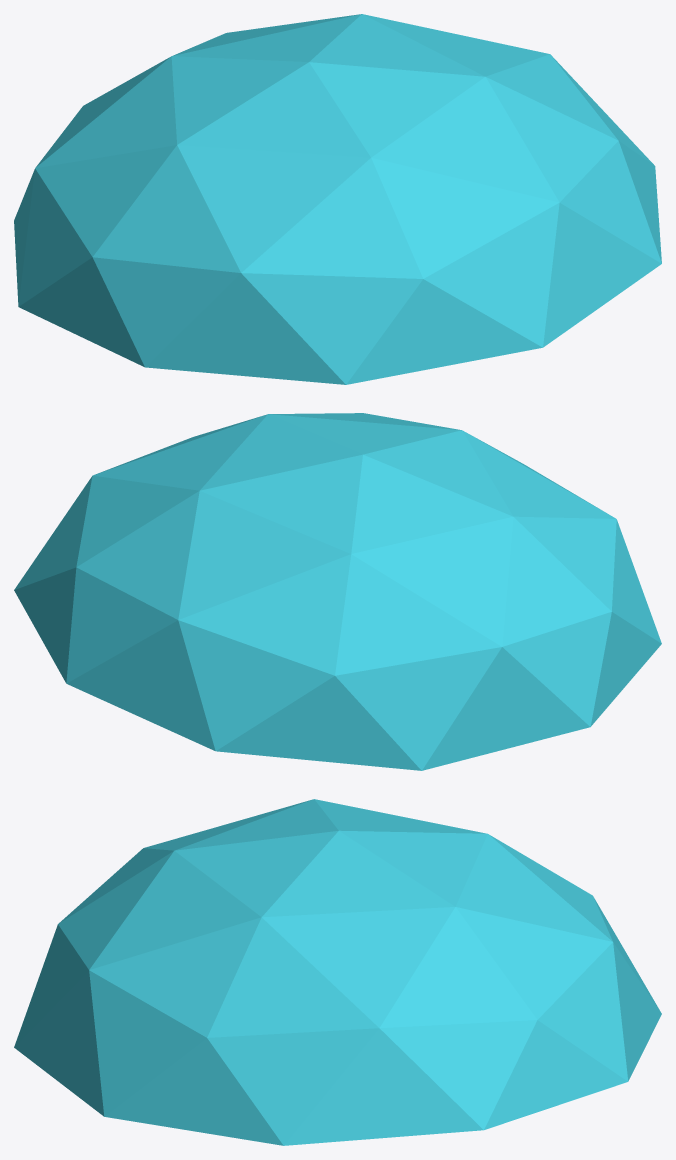
Rendered from normalShroom.fbx.
3 renders of one model, top to bottom at view 1: azimuth 30°, elevation 25°; view 2: azimuth 150°, elevation 25°; view 3: azimuth 270°, elevation 25°, orthographic. The views are drawn at different scales.
Visible parts, largest first — view 1: DeathCapBAdultVariantC; view 2: DeathCapBAdultVariantC; view 3: DeathCapBAdultVariantC.
Part boxes in pixels (x1=…): DeathCapBAdultVariantC: x1=14, y1=14, x2=661, y2=384; DeathCapBAdultVariantC: x1=14, y1=413, x2=661, y2=770; DeathCapBAdultVariantC: x1=14, y1=799, x2=661, y2=1145.
Bounding box in the file's own units: 31.39 × 10.33 × 30.39.
